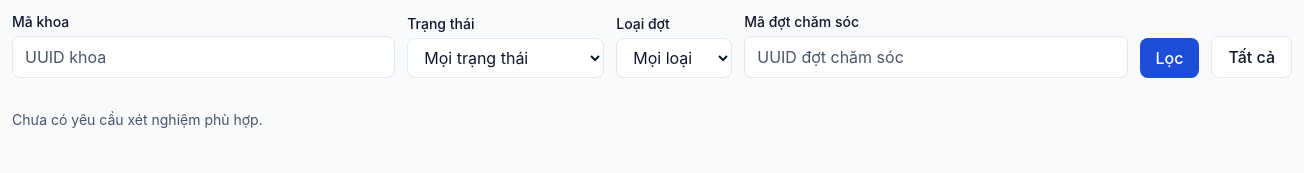
Test: Lab queue request lifecycle › validates the episode pair before sending another request
Expected: the text "Chưa có yêu cầu xét nghiệm phù hợp." is shown, [12, 111, 263, 128]
Select "Ngoại trú" in the dropdown labelled "Loại đợt" at (674, 58), box [616, 38, 732, 78]
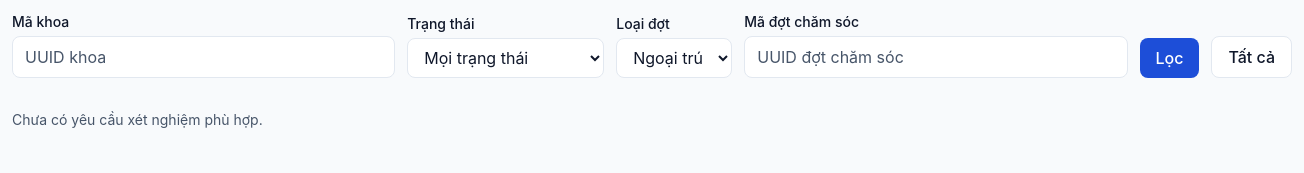
Click the button "Lọc" at (1170, 58), box [1140, 38, 1200, 78]
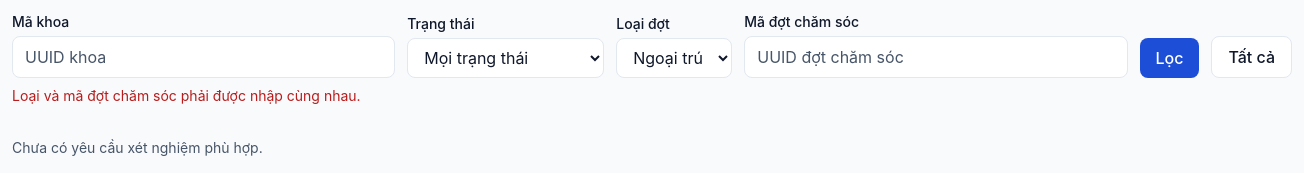
Now the message "Loại và mã đợt chăm sóc phải được nhập cùng nhau." is shown, box [12, 87, 361, 104]
